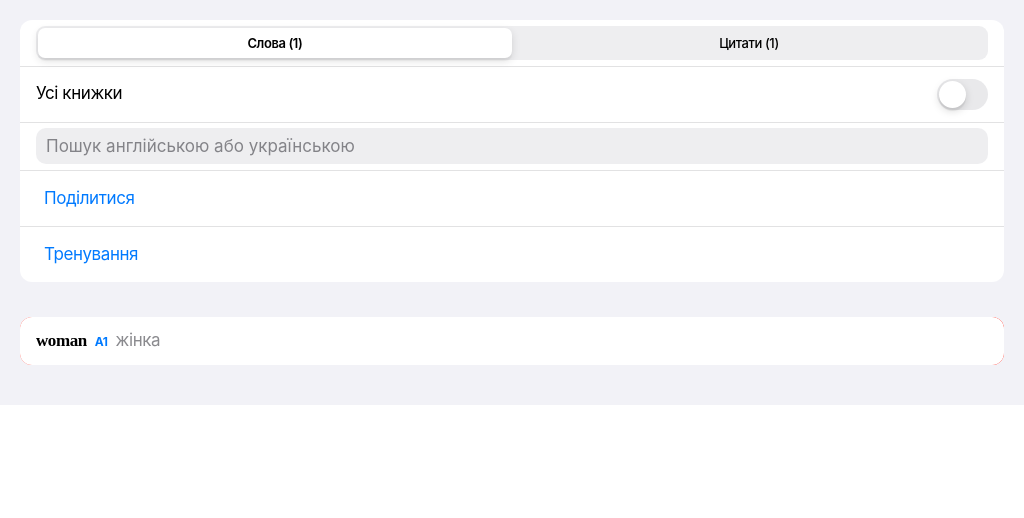
Test: SavedList › показує лічильники сегментів і фільтр поточної книжки
The image size is (1024, 518).
Expected: the radio button labelled "Слова (1)" is shown, top-left (38, 28), bottom-right (512, 58)
Expected: the radio button labelled "Цитати (1)" is shown, top-left (512, 28), bottom-right (986, 58)
Step 1. Click the switch named "Усі книжки" → x=962, y=94, box top-left (937, 78), bottom-right (988, 110)
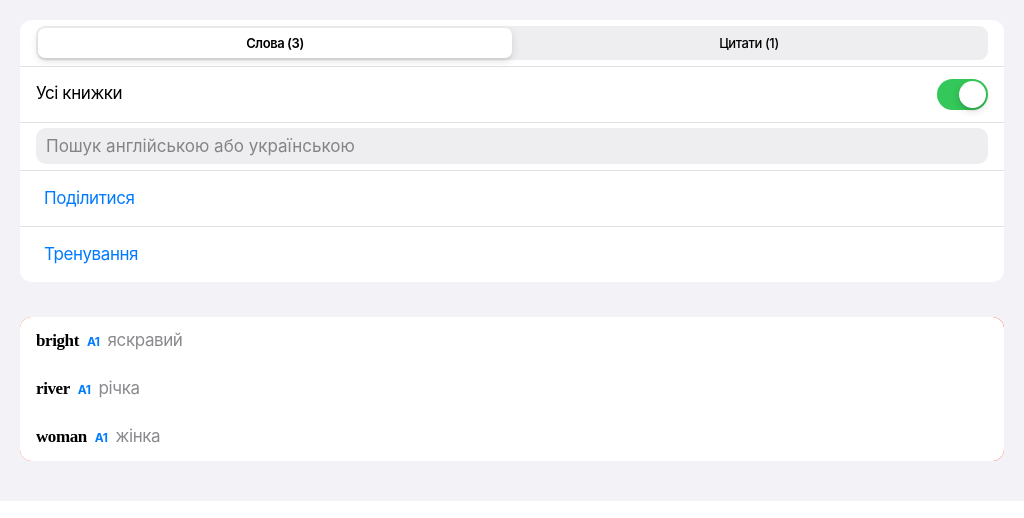
Expected: the radio button labelled "Слова (3)" is shown, top-left (38, 28), bottom-right (512, 58)
